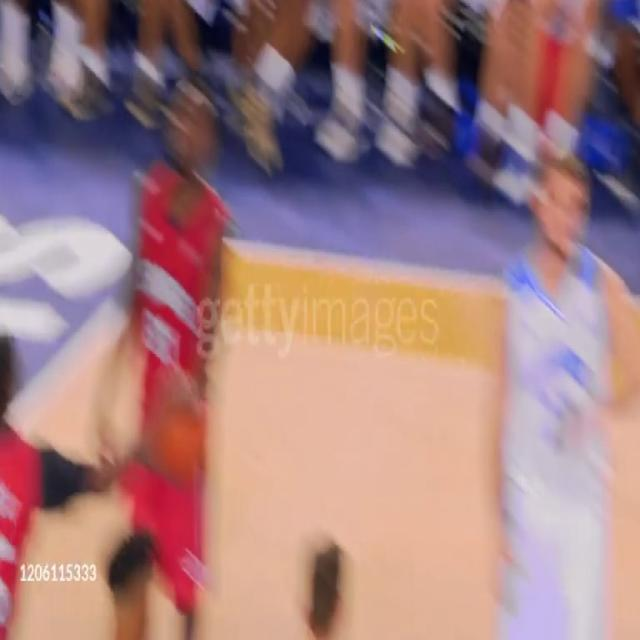ball: (146, 384, 208, 489)
